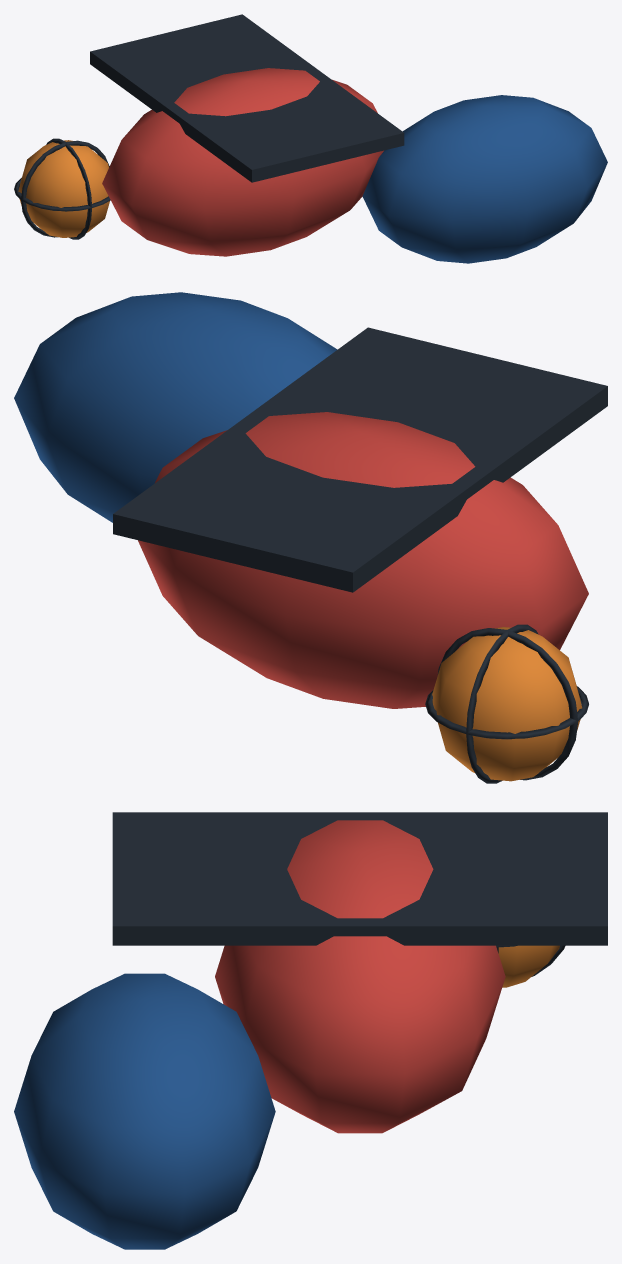
File: decor_4.fbx
3 views of the same model, one above another, from view 1: azimuth 30°, elevation 25°; view 2: azimuth 150°, elevation 25°; view 3: azimuth 270°, elevation 25° (orthographic). The views are drawn at different scales.
Visible parts, largest first — view 1: decor_4; view 2: decor_4; view 3: decor_4.
Part boxes in pixels (bbox=[...]): decor_4: bbox=[14, 14, 607, 263]; decor_4: bbox=[14, 292, 607, 783]; decor_4: bbox=[14, 812, 607, 1249].
Size of the model in its own units: 1.51 by 0.51 by 1.1.
